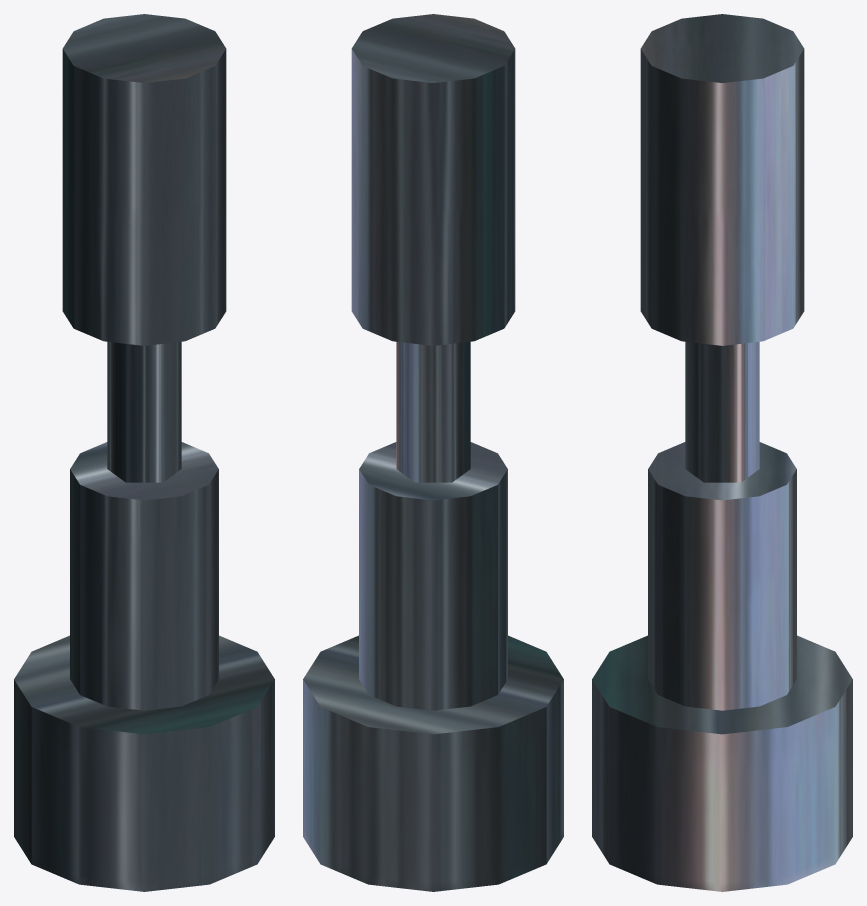
The model's file is PegMetalT8.fbx.
The picture shows the model from 3 angles, left to right: view 1: azimuth 30°, elevation 25°; view 2: azimuth 150°, elevation 25°; view 3: azimuth 270°, elevation 25°; orthographic projection.
Visible parts, largest first — view 1: PegMetalT8; view 2: PegMetalT8; view 3: PegMetalT8.
Part boxes in pixels (<box>): PegMetalT8: <box>14,14,274,891</box>; PegMetalT8: <box>303,14,563,891</box>; PegMetalT8: <box>592,14,852,891</box>.
Bounding box in the file's own units: 0.923 × 3.08 × 0.9227.
1 material, 1 textured.
